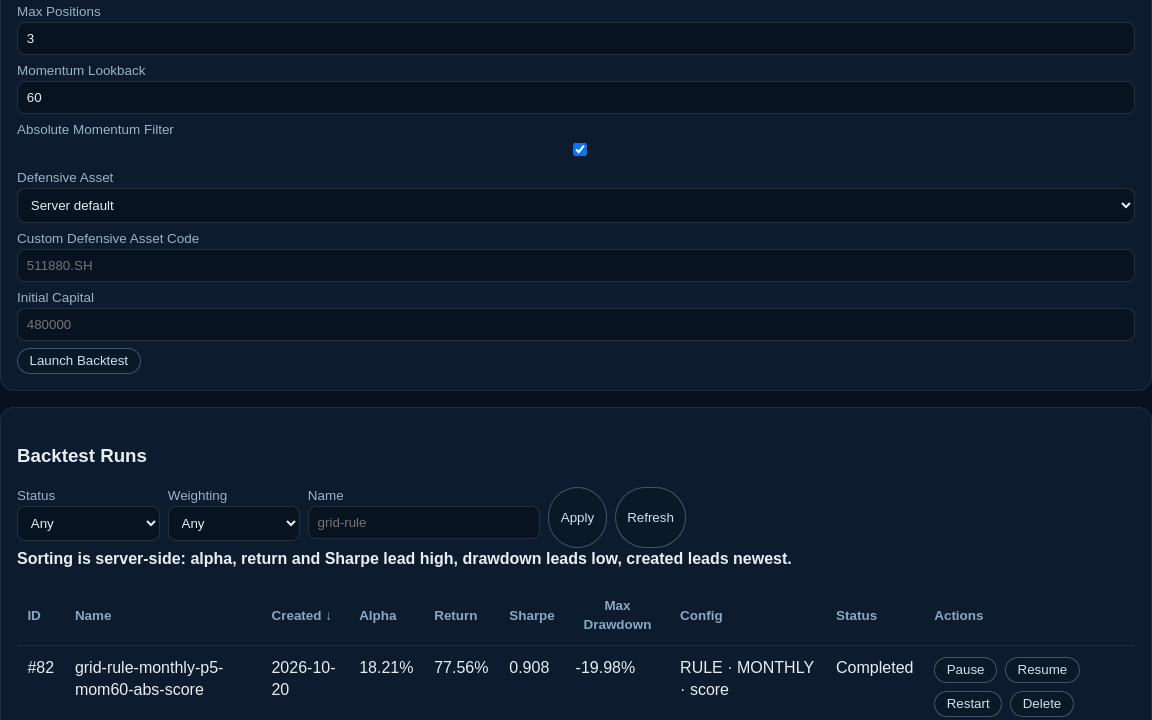
Scenario: EtfBacktestWorkbenchPage › surfaces the concurrency-cap sentence from the server verbatim
This screenshot has width=1152, height=720.
(page scrolled)
Click the button "Launch Backtest" at (79, 361), box 17,348 -> 141,374
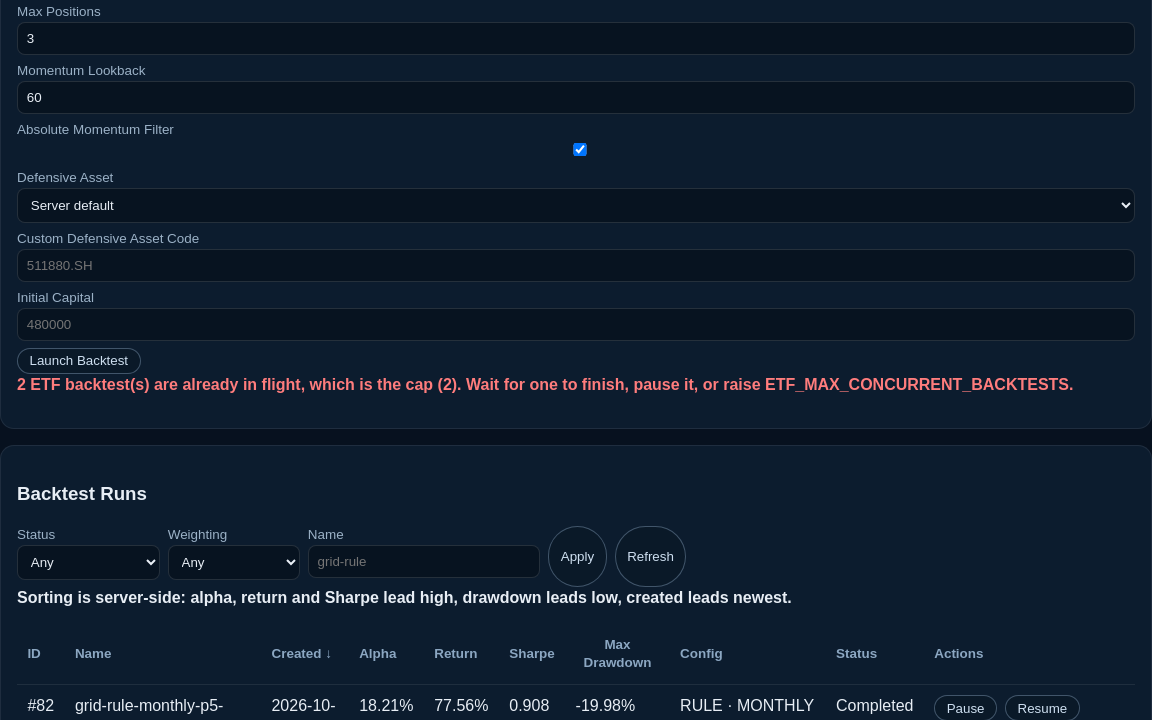
Now the text "2 ETF backtest(s) are already in flight, which is the cap (2). Wait for one to finish, pause it, or raise ETF_MAX_CONCUR" is shown, box 17,376 -> 1074,393
